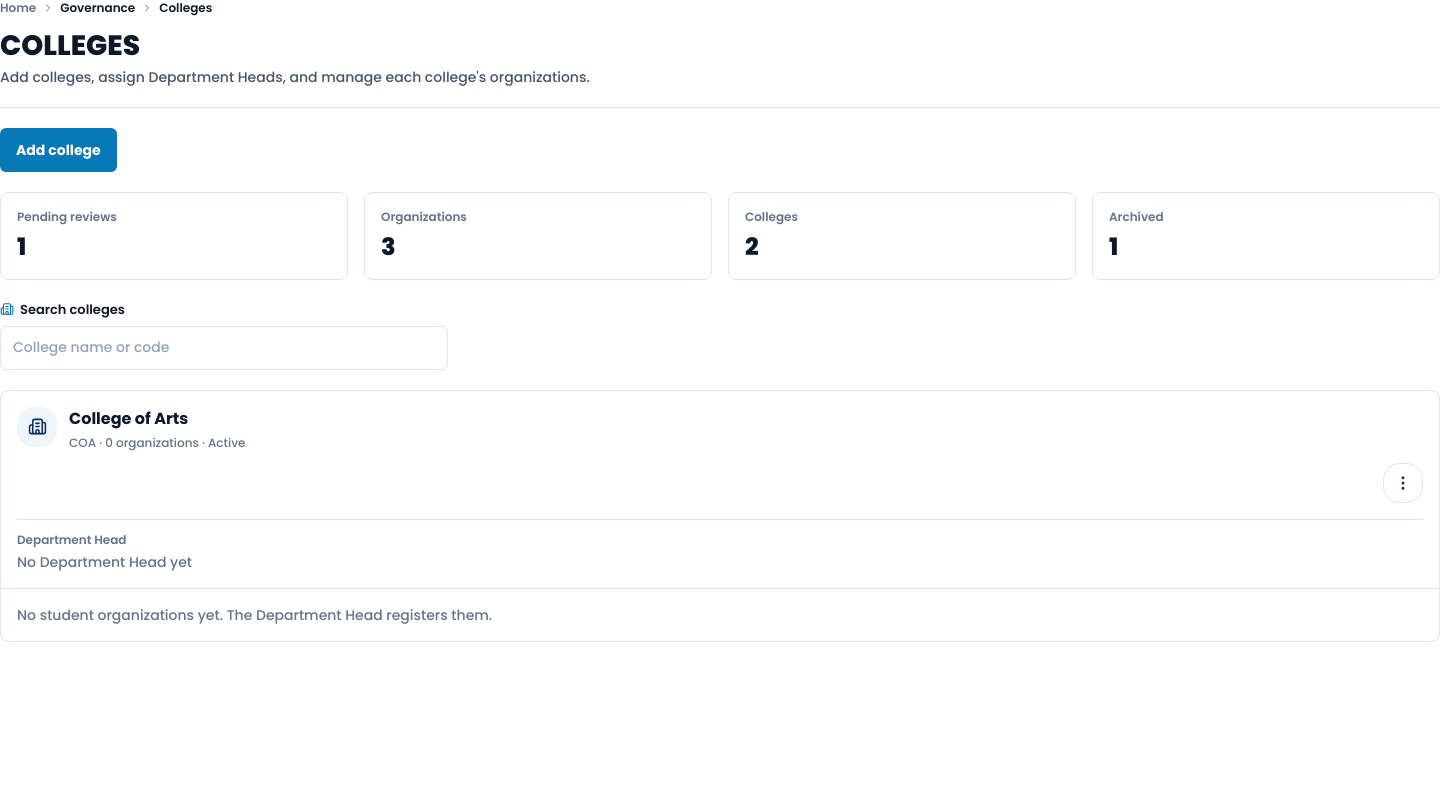
Test: SystemCollegesPage › archives with confirmation and displays an API failure inside the dialog
Click the button named "Actions for ".
click(1403, 482)  # box [1383,462,1423,502]
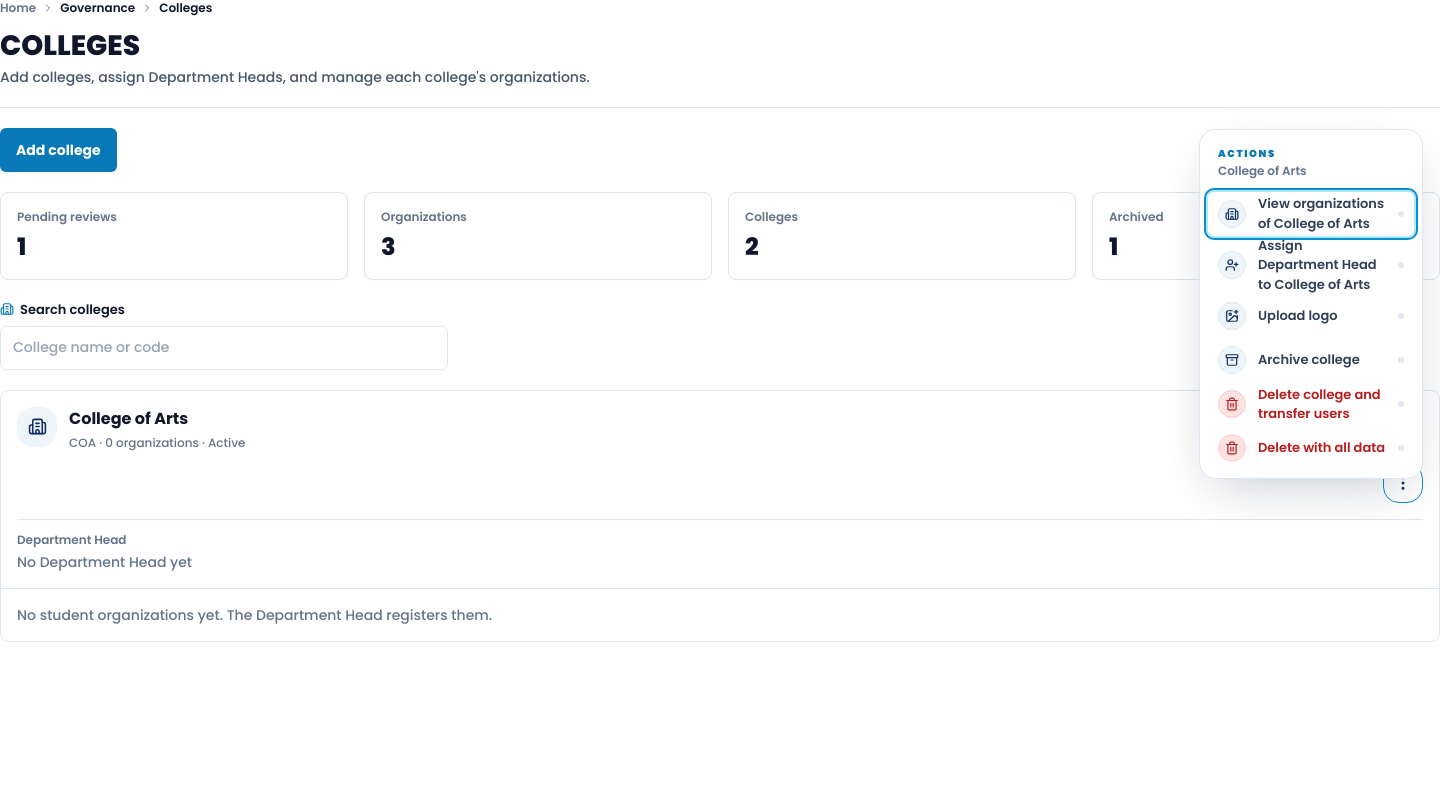
Click the menu item "Archive college".
click(1311, 360)  # box [1208,338,1414,382]
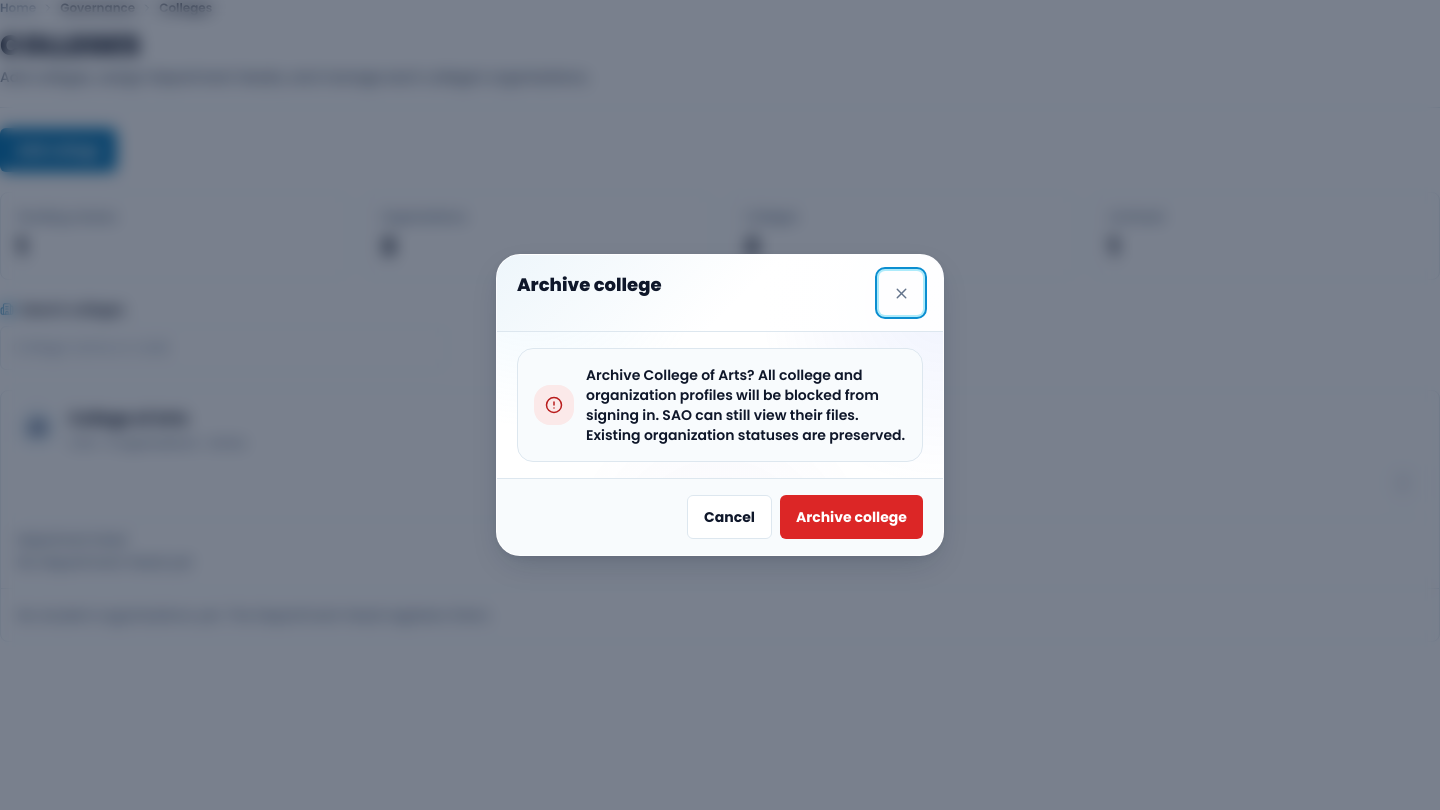
Result: the dialog "Archive college" shows "SAO can still view their files" at [586,365,905,445]
Click the button "Archive college".
click(851, 517)  # box [780,495,923,539]
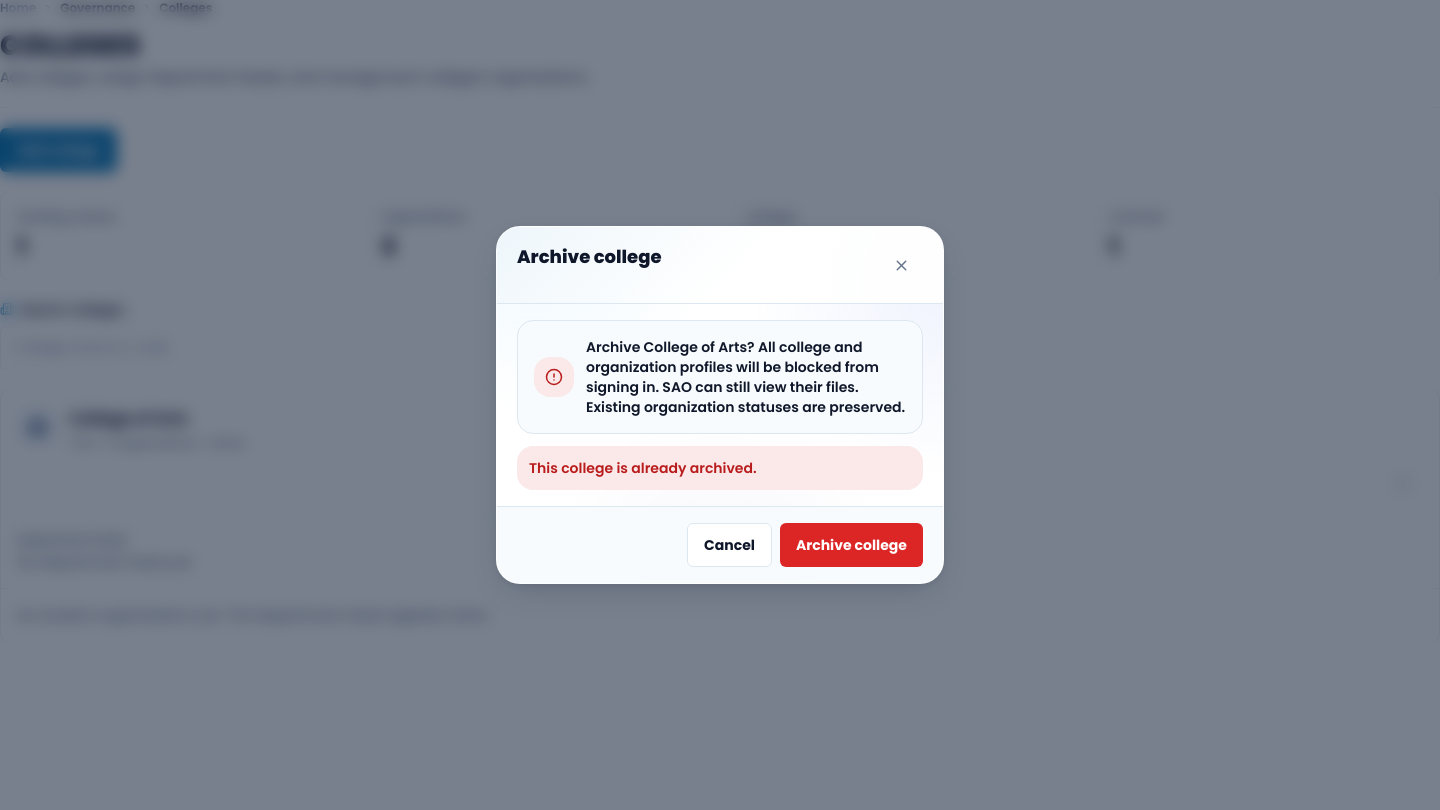
Result: the message shows "already archived" at [529,458,757,478]
Click the button "Archive college".
click(851, 545)  # box [780,523,923,567]
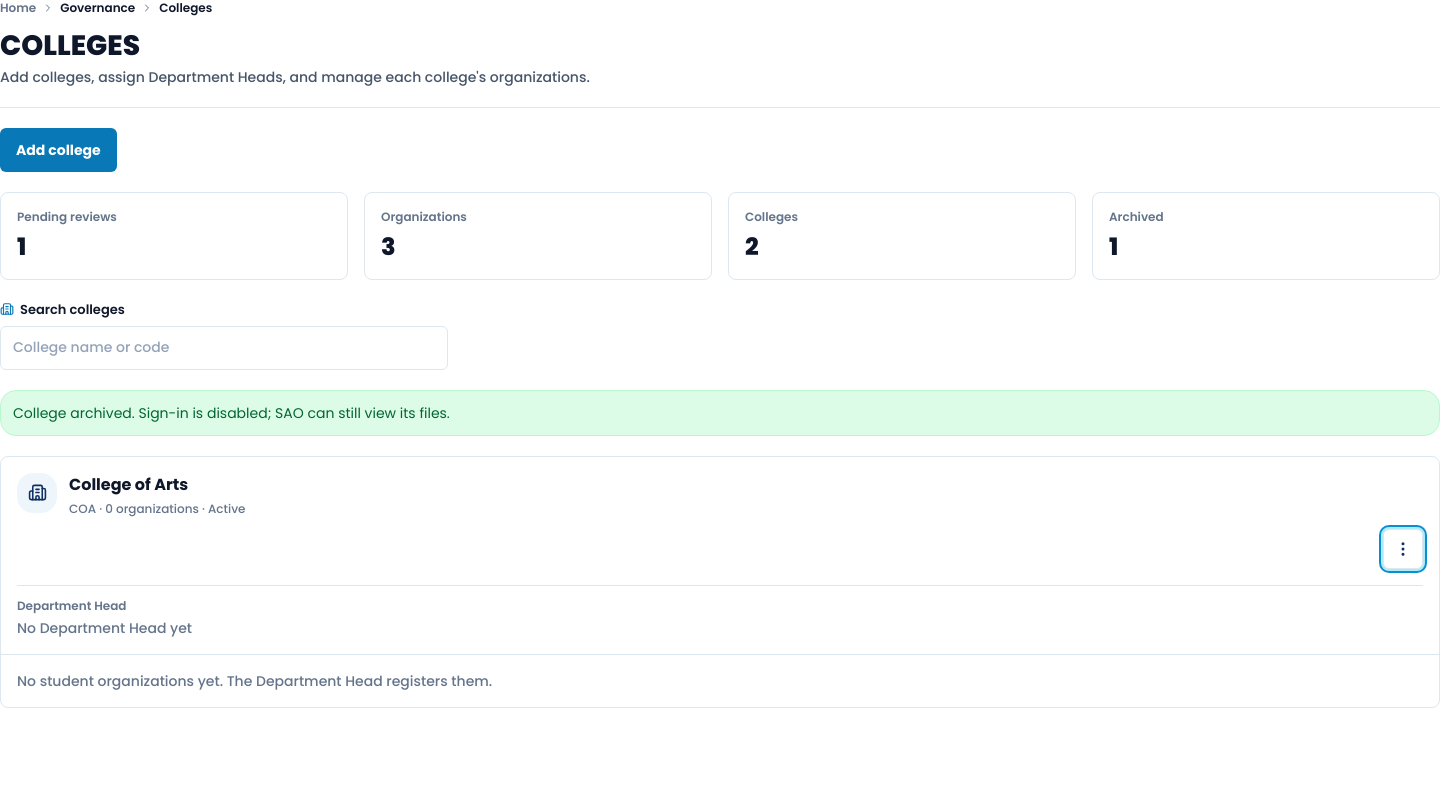
Result: the dialog is gone
Result: the message shows "Sign-in is disabled" at [13,402,450,422]
